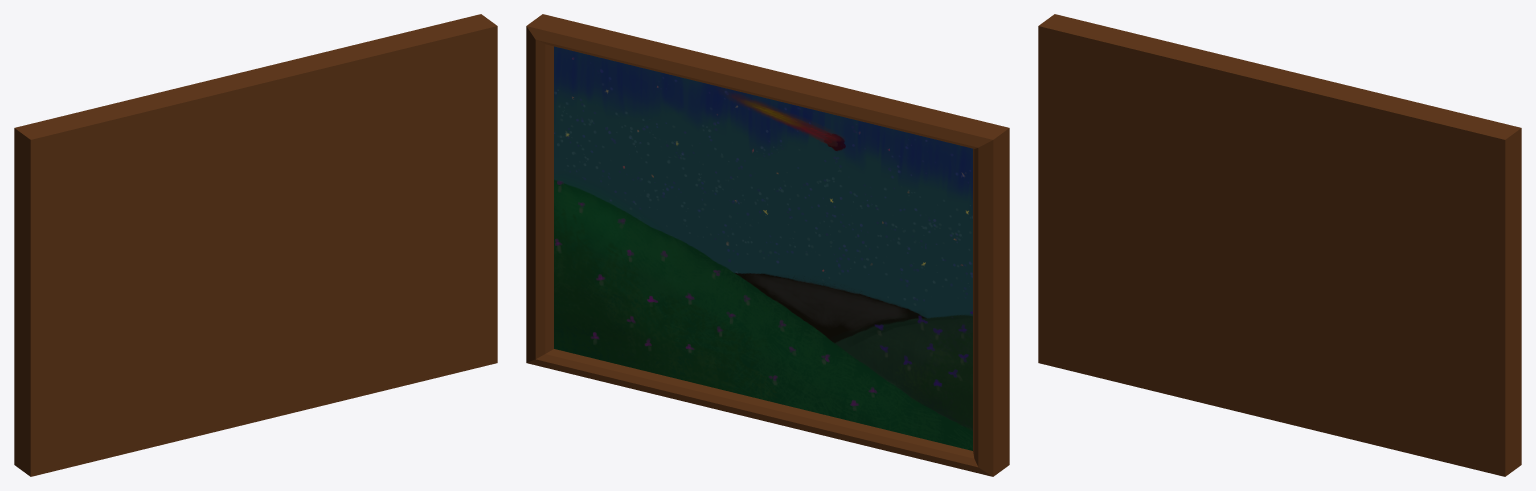
The model's file is QuadroHorizontal.fbx.
3 views of the same model, side by side, from view 1: azimuth 30°, elevation 25°; view 2: azimuth 150°, elevation 25°; view 3: azimuth 330°, elevation 25° (orthographic).
Visible parts, largest first — view 1: Cube; view 2: Cube; view 3: Cube.
Boxes of the visible parts, bbox=[...] form: Cube: bbox=[14, 14, 497, 476]; Cube: bbox=[526, 14, 1009, 476]; Cube: bbox=[1038, 14, 1521, 476].
Size of the model in its own units: 290 by 20.64 by 200.
2 materials, 1 textured.
